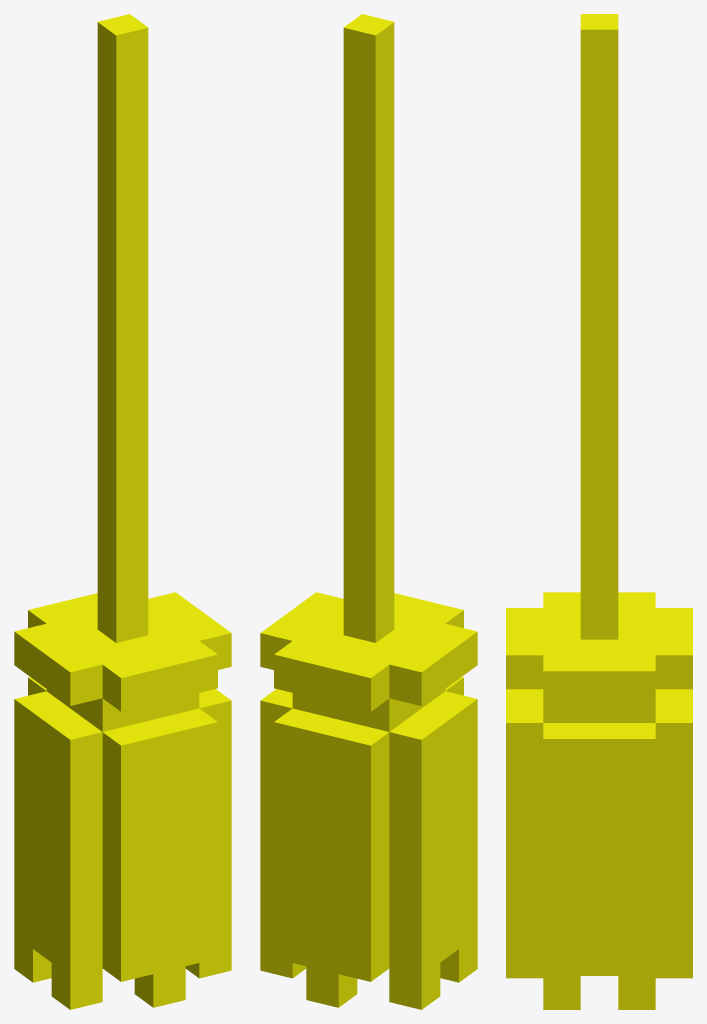
The model's file is voxel-wizards-broom.glb.
The picture shows the model from 3 angles, left to right: view 1: azimuth 30°, elevation 25°; view 2: azimuth 150°, elevation 25°; view 3: azimuth 270°, elevation 25°; orthographic projection.
Visible parts, largest first — view 1: VS_Wizards_Broom; view 2: VS_Wizards_Broom; view 3: VS_Wizards_Broom.
Boxes of the visible parts, box(x1,y1,x2,y2) form: VS_Wizards_Broom: box(14, 14, 231, 1009); VS_Wizards_Broom: box(260, 14, 477, 1009); VS_Wizards_Broom: box(506, 14, 692, 1009).
Size of the model in its own units: 0.5001 by 2.8 by 0.5001.
